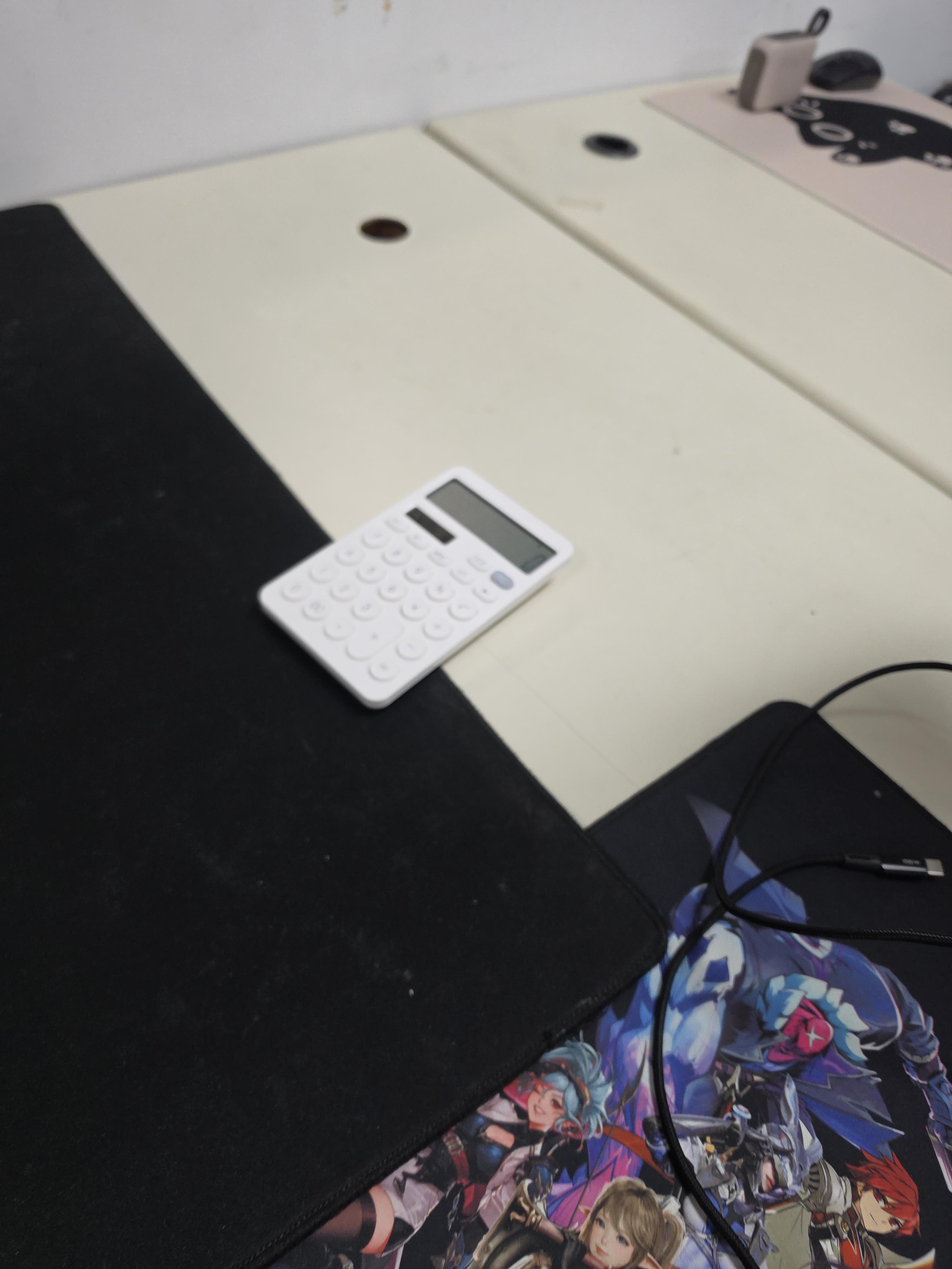calculator: (257, 465, 577, 711)
